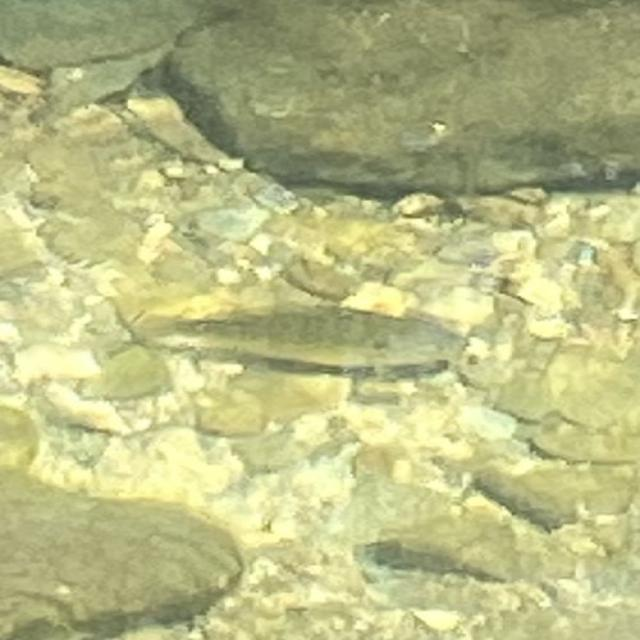Gunes Levregi: (120, 295, 485, 379)
